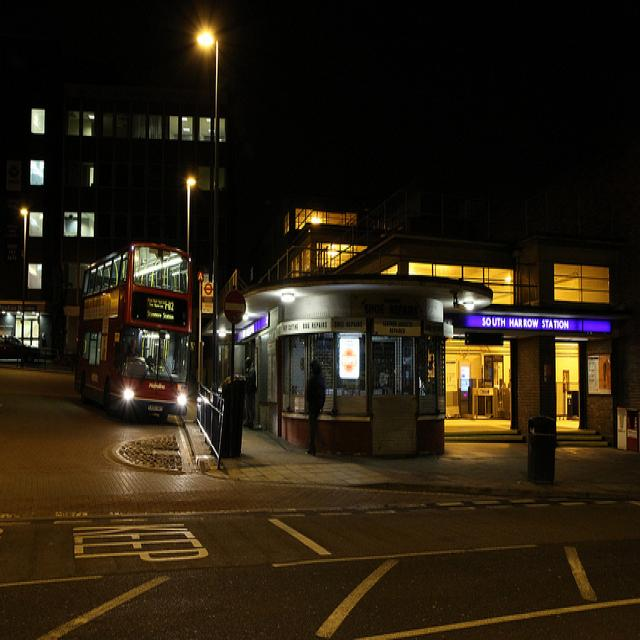Bus: (67, 227, 195, 457)
People: (291, 353, 331, 471)
